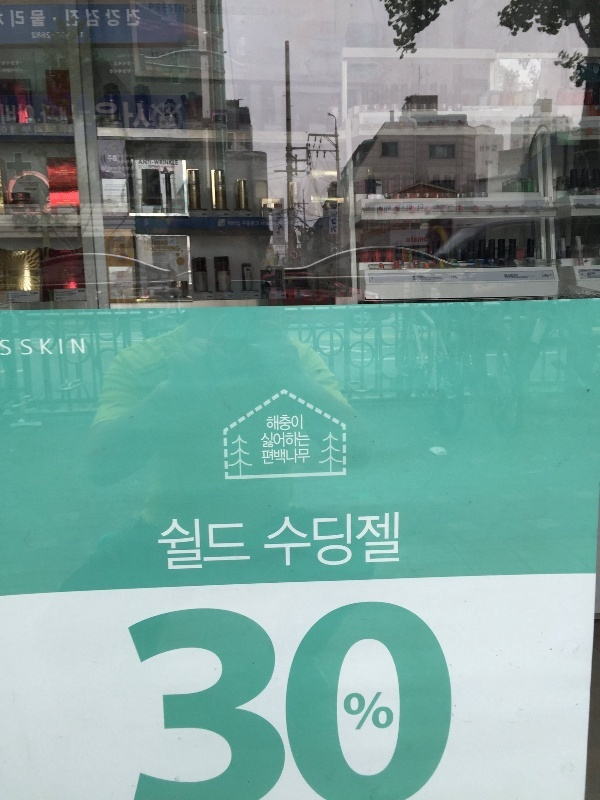text: (129, 597, 144, 798), (145, 597, 160, 798), (161, 597, 176, 798), (177, 597, 192, 798), (193, 597, 208, 798), (209, 597, 224, 798), (225, 597, 240, 798), (241, 597, 256, 798), (257, 597, 272, 798), (273, 597, 288, 798), (289, 597, 304, 798), (305, 597, 320, 798), (321, 597, 336, 798), (337, 597, 352, 798), (353, 597, 368, 798), (369, 597, 384, 798), (385, 597, 400, 798), (401, 597, 416, 798), (417, 597, 432, 798), (433, 597, 448, 798), (449, 597, 460, 798), (289, 506, 304, 572), (305, 506, 320, 572), (321, 506, 336, 572), (337, 506, 352, 572), (353, 506, 368, 572), (369, 506, 384, 572), (385, 506, 400, 572), (161, 519, 176, 578), (177, 519, 192, 578), (193, 519, 208, 578), (209, 519, 224, 578), (225, 519, 240, 578), (275, 506, 288, 572), (353, 692, 368, 739), (369, 692, 384, 739), (241, 519, 252, 578), (97, 97, 112, 134), (113, 97, 128, 134), (129, 97, 144, 134), (17, 151, 33, 182), (161, 53, 176, 85), (385, 692, 395, 739), (343, 692, 352, 739), (17, 7, 32, 33), (33, 7, 48, 33), (49, 7, 64, 33), (65, 7, 80, 33), (81, 7, 96, 33), (97, 7, 112, 33), (113, 7, 128, 33), (177, 53, 189, 85), (1, 102, 16, 125), (17, 102, 32, 125), (33, 102, 48, 125), (49, 102, 64, 125), (5, 151, 16, 182), (129, 7, 142, 33), (1, 337, 16, 359), (116, 51, 128, 78), (33, 337, 48, 358), (49, 337, 64, 358), (65, 337, 80, 358), (145, 97, 153, 134), (273, 414, 288, 432), (289, 414, 304, 432), (273, 448, 288, 466), (289, 448, 304, 466), (1, 58, 16, 76), (273, 432, 288, 449), (289, 432, 304, 449), (1, 13, 16, 30), (20, 337, 32, 358), (276, 221, 288, 240), (1, 122, 16, 136), (17, 122, 32, 136), (33, 122, 48, 136), (49, 122, 64, 136), (161, 1, 176, 15), (177, 1, 192, 15), (257, 6, 272, 20), (273, 6, 288, 20), (289, 6, 304, 20), (127, 597, 128, 798), (261, 448, 272, 466), (9, 7, 16, 33), (209, 4, 223, 16), (241, 6, 256, 17), (401, 203, 416, 214), (129, 51, 135, 78), (149, 1, 160, 15), (18, 181, 32, 192), (263, 432, 272, 449), (33, 31, 48, 41), (145, 238, 160, 248), (161, 50, 176, 60), (17, 58, 25, 76), (242, 218, 256, 228), (145, 159, 160, 168), (161, 159, 176, 168), (417, 274, 432, 283), (330, 212, 336, 234), (177, 50, 190, 60), (305, 448, 312, 466), (81, 337, 87, 358), (65, 122, 74, 136), (228, 218, 240, 228), (145, 245, 160, 253), (161, 245, 176, 253), (513, 273, 528, 281), (65, 102, 70, 125), (266, 414, 272, 432), (305, 432, 311, 449), (433, 274, 444, 283), (33, 181, 42, 192), (257, 218, 266, 228), (145, 251, 160, 257), (151, 50, 160, 60), (232, 6, 240, 17), (485, 159, 496, 167), (201, 4, 208, 16), (450, 275, 464, 281), (417, 236, 429, 243), (481, 145, 491, 153), (377, 205, 384, 216), (385, 205, 392, 216), (417, 203, 424, 214), (152, 227, 160, 236), (161, 227, 169, 236), (503, 273, 512, 281), (251, 6, 256, 20), (161, 238, 168, 248), (406, 236, 416, 243), (593, 272, 600, 281), (193, 1, 197, 15), (161, 251, 170, 257), (329, 204, 336, 211), (529, 273, 535, 281), (107, 154, 112, 163), (113, 154, 118, 163), (139, 159, 144, 168), (587, 272, 592, 281), (396, 203, 400, 214), (305, 6, 308, 20), (95, 97, 96, 134), (412, 274, 416, 283), (177, 245, 181, 253), (49, 31, 52, 41), (545, 273, 550, 278), (30, 31, 32, 41), (177, 159, 179, 168), (241, 218, 242, 228), (542, 273, 544, 278)
